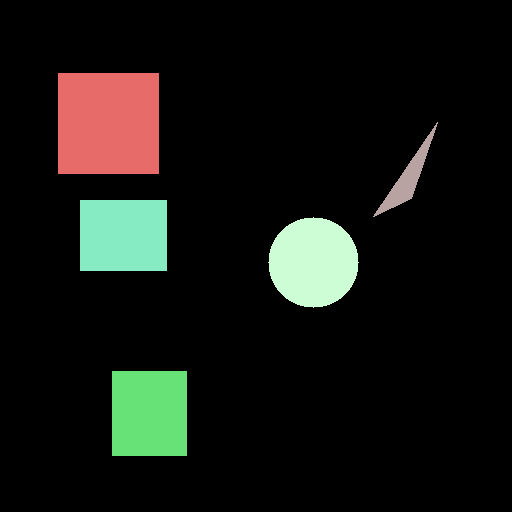circle: (268, 217, 358, 307)
rectangle: (112, 371, 186, 455), (80, 200, 166, 270)
square: (58, 73, 158, 173)
triangle: (373, 122, 437, 216)
